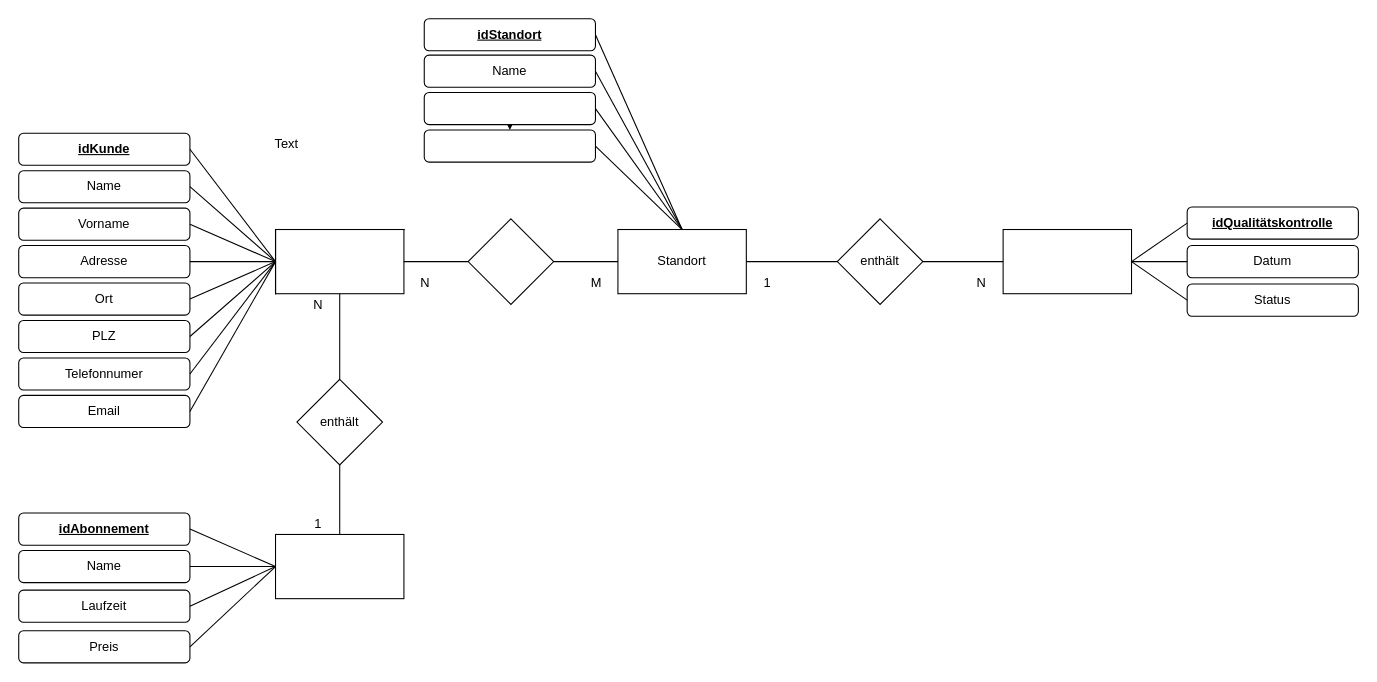
This 1377x682 diagram has some shape labels left out. Each missing label, with the box of its shape:
Abonnement: (274, 533, 404, 599)
buchen: (467, 218, 554, 304)
Kunde: (274, 228, 404, 294)
Markttag: (423, 129, 595, 162)
Qualitätstkontrolle: (1002, 228, 1132, 294)
Verfügbarkeit: (423, 91, 595, 125)
